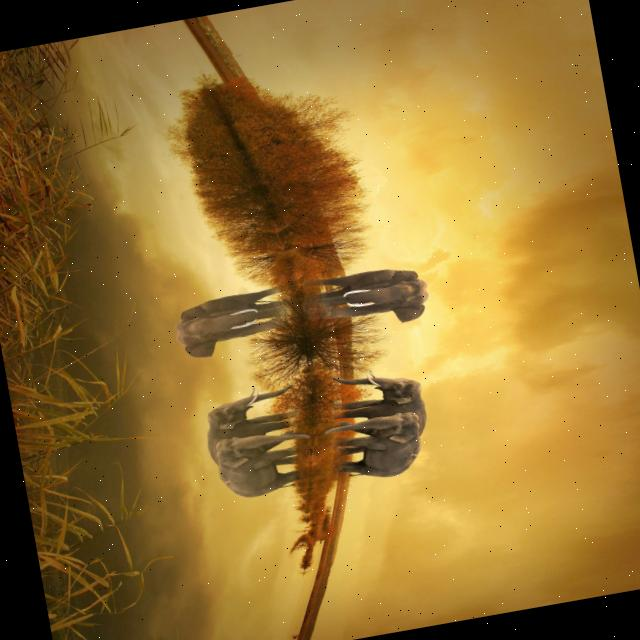Elephant: (322, 361, 432, 458), (298, 260, 432, 339), (322, 408, 427, 487)
